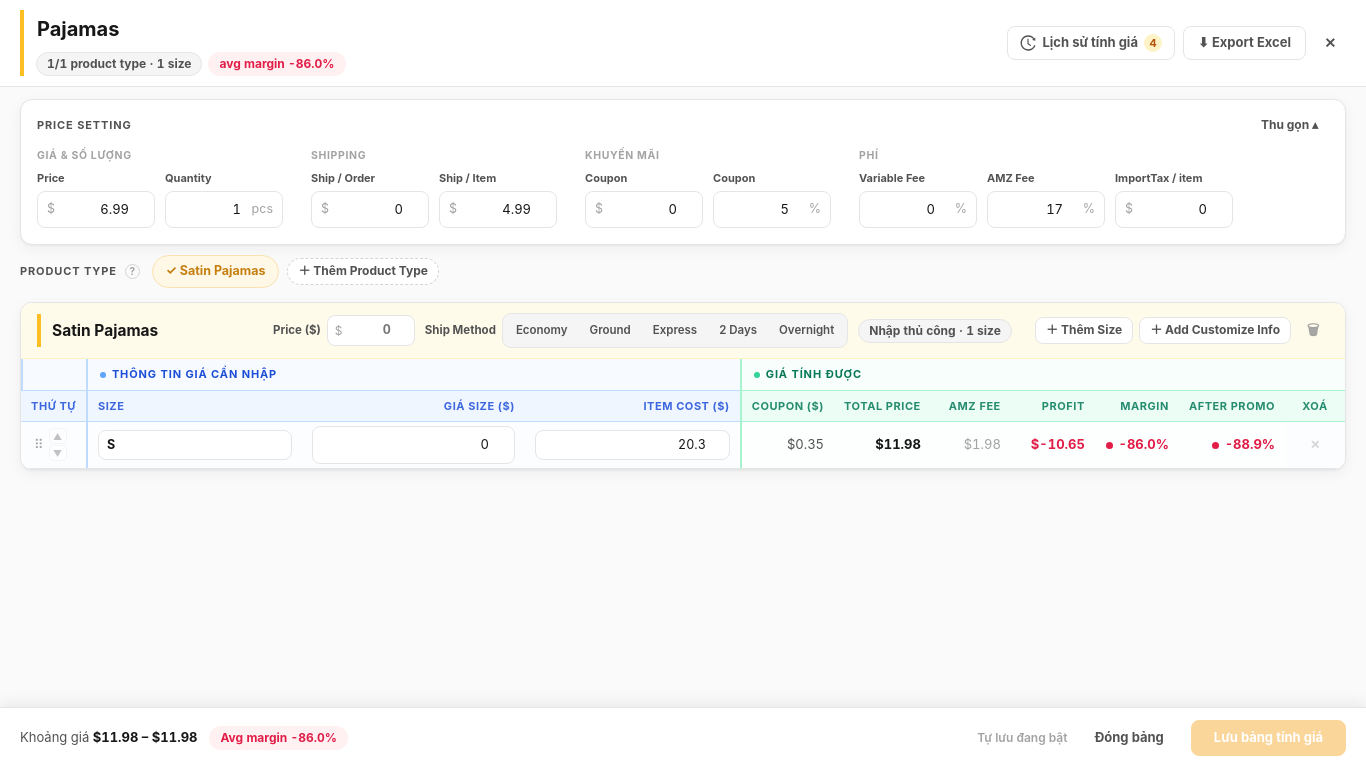
Test: nút Lưu = chốt mốc phiên bản › chốt mốc xong nút tắt lại — bấm nhiều lần không ra nhiều bản giống nhau
Replace the text in the field named "Tên bảng tính giá" with "Pajamas!". click: coordinates (190, 29)
box: 28,10 -> 352,48
Wait 3000 ms
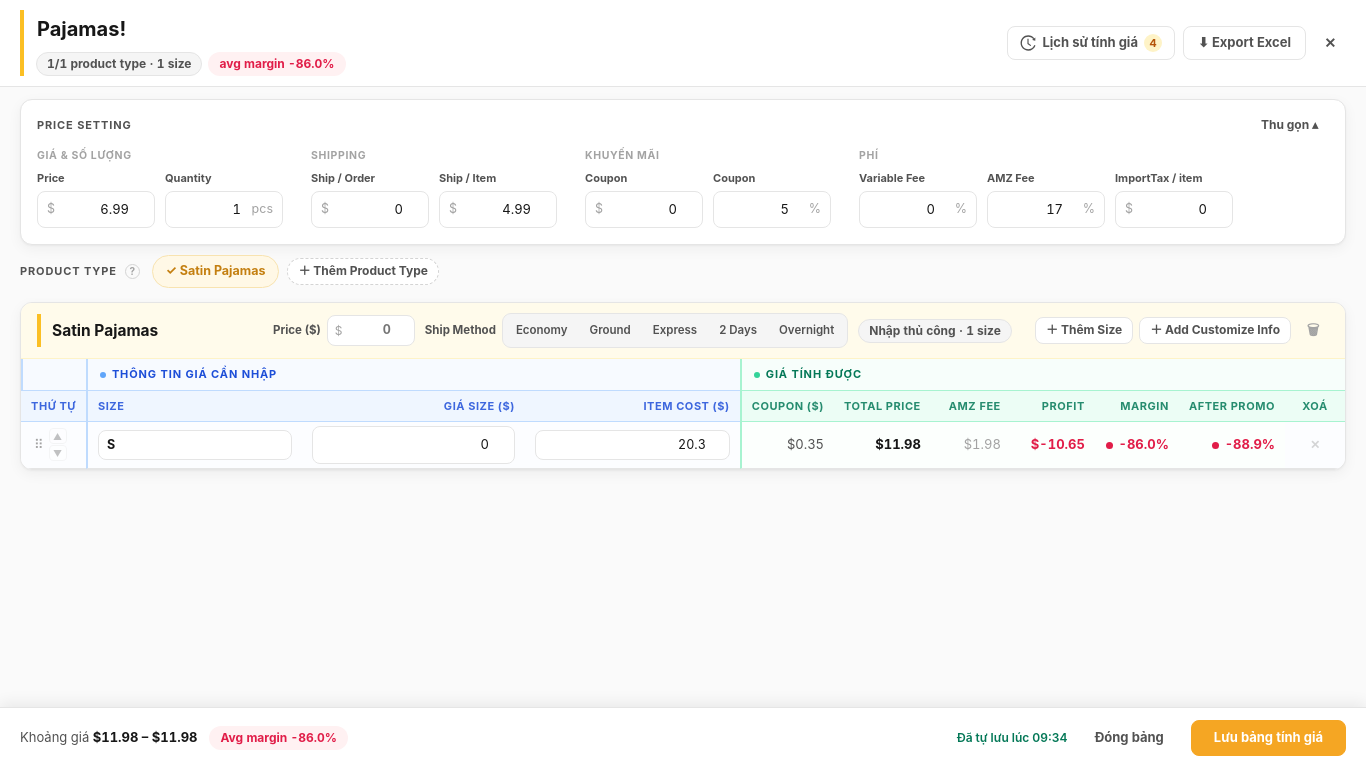
Click the button "Lưu bảng tính giá". click: coordinates (1268, 738)
box: 1191,720 -> 1346,756
Wait 30000 ms
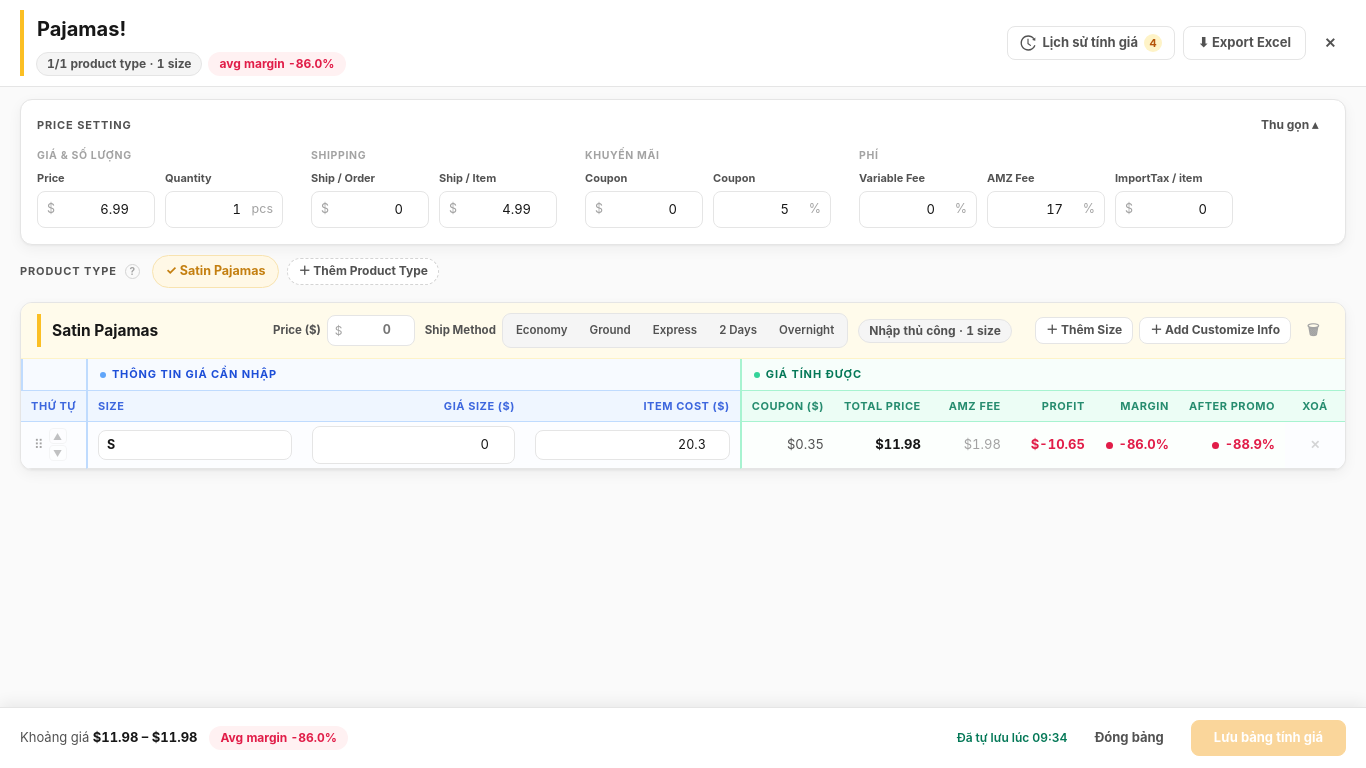
Result: the button "Lưu bảng tính giá" is disabled at 1191,720 -> 1346,756
